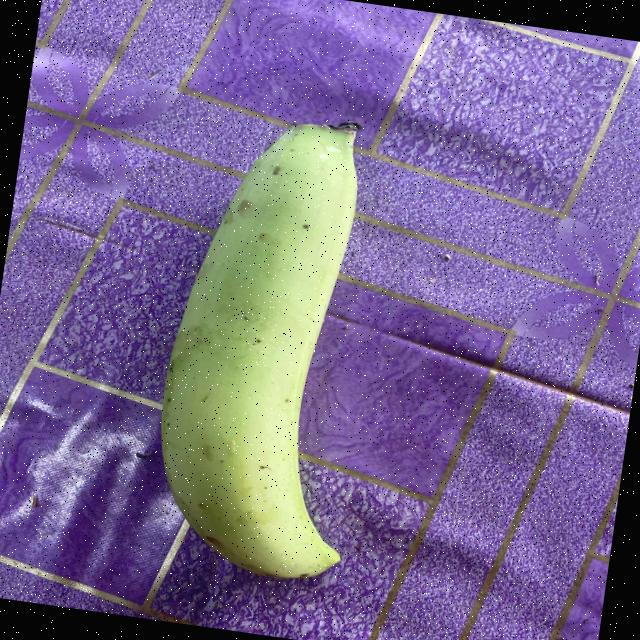Raw: (31, 31, 492, 640)
